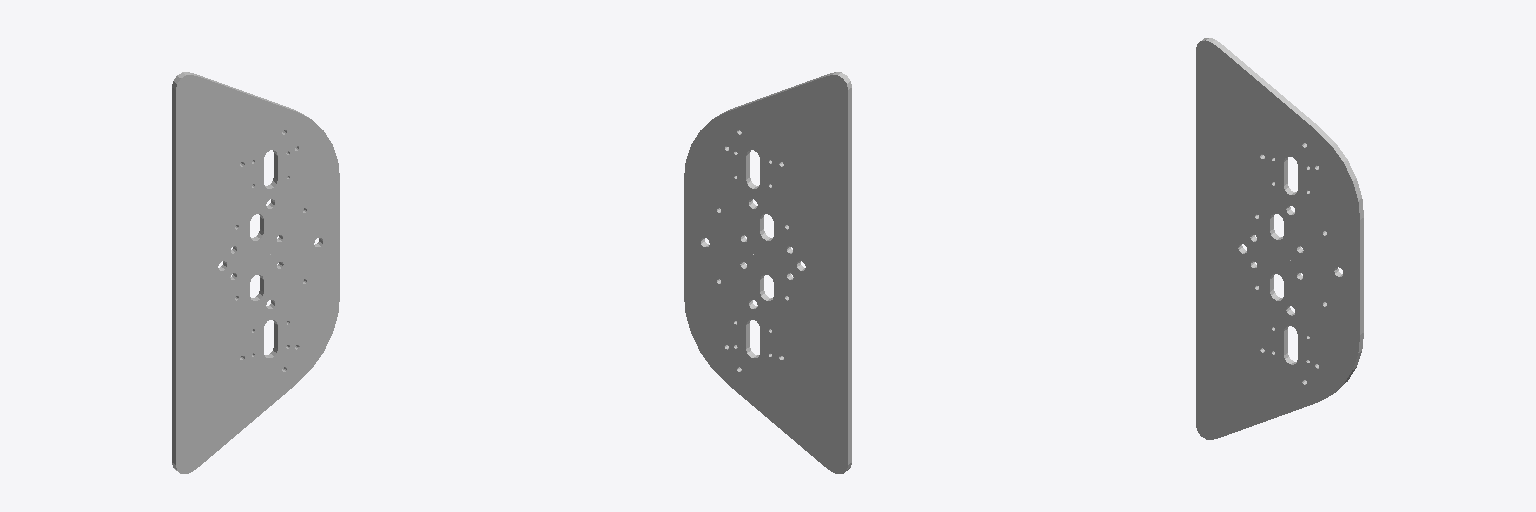
File: plate.obj
The picture shows the model from 3 angles: view 1: azimuth 30°, elevation 25°; view 2: azimuth 150°, elevation 25°; view 3: azimuth 330°, elevation 25°; orthographic projection.
Size of the model in its own units: 0.1423 by 0.3299 by 0.006.